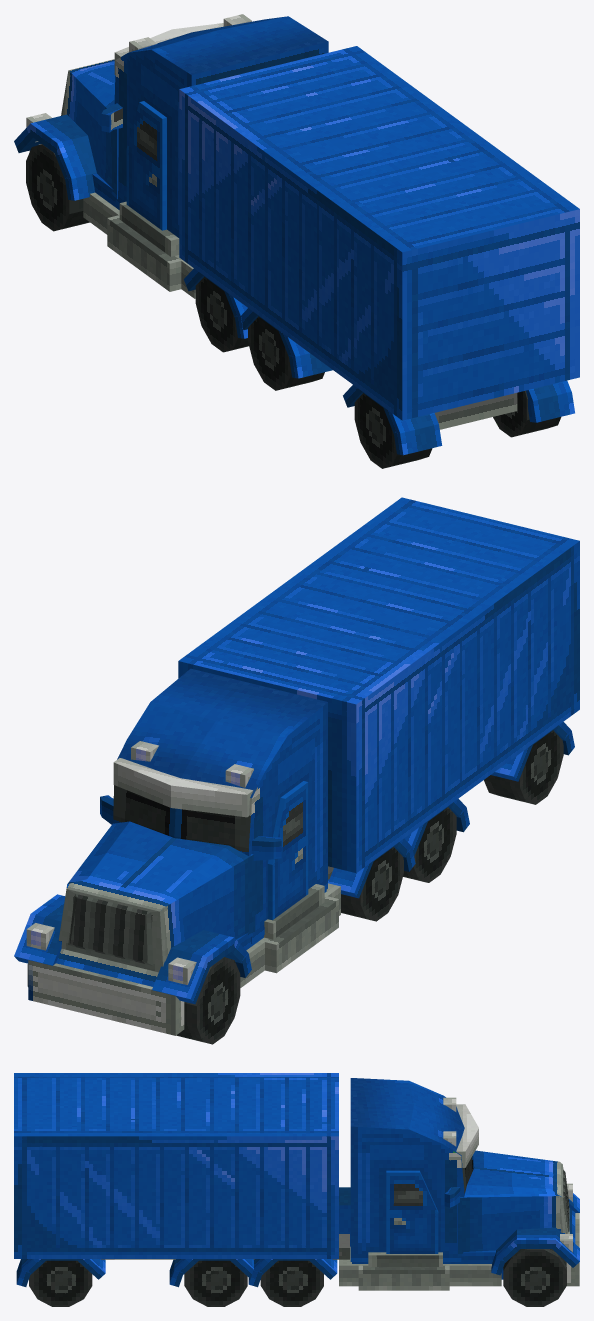
The model's file is truck3.gltf.
3 renders of one model, top to bottom at view 1: azimuth 30°, elevation 25°; view 2: azimuth 150°, elevation 25°; view 3: azimuth 270°, elevation 25°, orthographic. The views are drawn at different scales.
Parts seen in each view (by area): view 1: cube (×12), cuboid (×4), cylinder (×5); view 2: cube (×10), cuboid (×5), cylinder (×4); view 3: cube (×13), cuboid (×4), cylinder (×4).
Part boxes in pixels (x1=…): cube (×12): x1=30, y1=46, x2=579, y2=455; cuboid (×4): x1=61, y1=16, x2=328, y2=237; cylinder (×5): x1=26, y1=144, x2=561, y2=468; cube (×10): x1=14, y1=497, x2=579, y2=1035; cuboid (×5): x1=58, y1=668, x2=327, y2=972; cylinder (×4): x1=176, y1=730, x2=563, y2=1044; cube (×13): x1=14, y1=1073, x2=579, y2=1290; cuboid (×4): x1=350, y1=1078, x2=569, y2=1261; cylinder (×4): x1=29, y1=1249, x2=566, y2=1306.
Bounding box in the file's own units: 3.49 × 4.43 × 12.97.
Materials: 1 (1 with a texture image).
